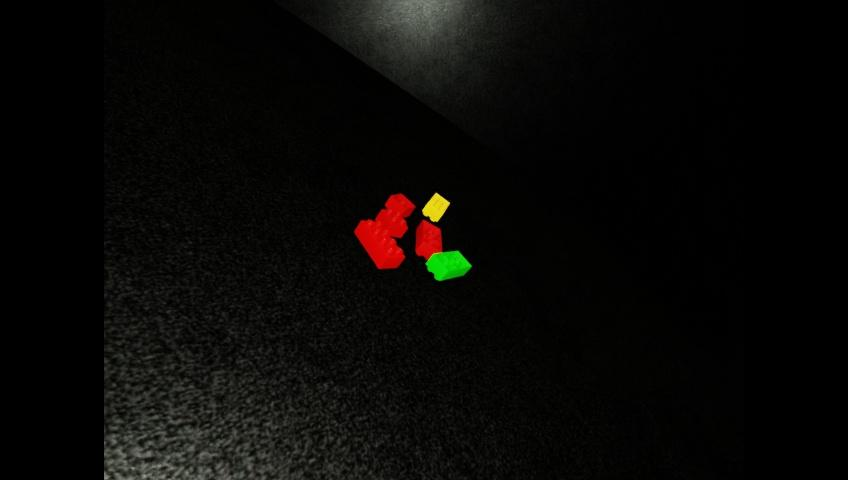2x2_red: (375, 208, 406, 237), (386, 193, 414, 217)
4x2_green: (425, 250, 470, 280)
4x2_red: (355, 220, 404, 268), (415, 219, 442, 260)
4x2_yellow: (423, 193, 449, 222)
